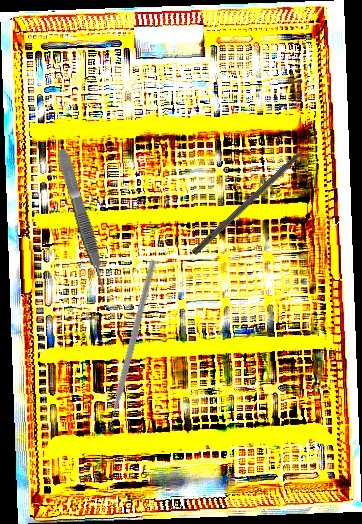Chopper: (49, 258, 201, 438)
Hook Surgical: (191, 137, 320, 257)
Tissue Forceps: (54, 147, 110, 292)
